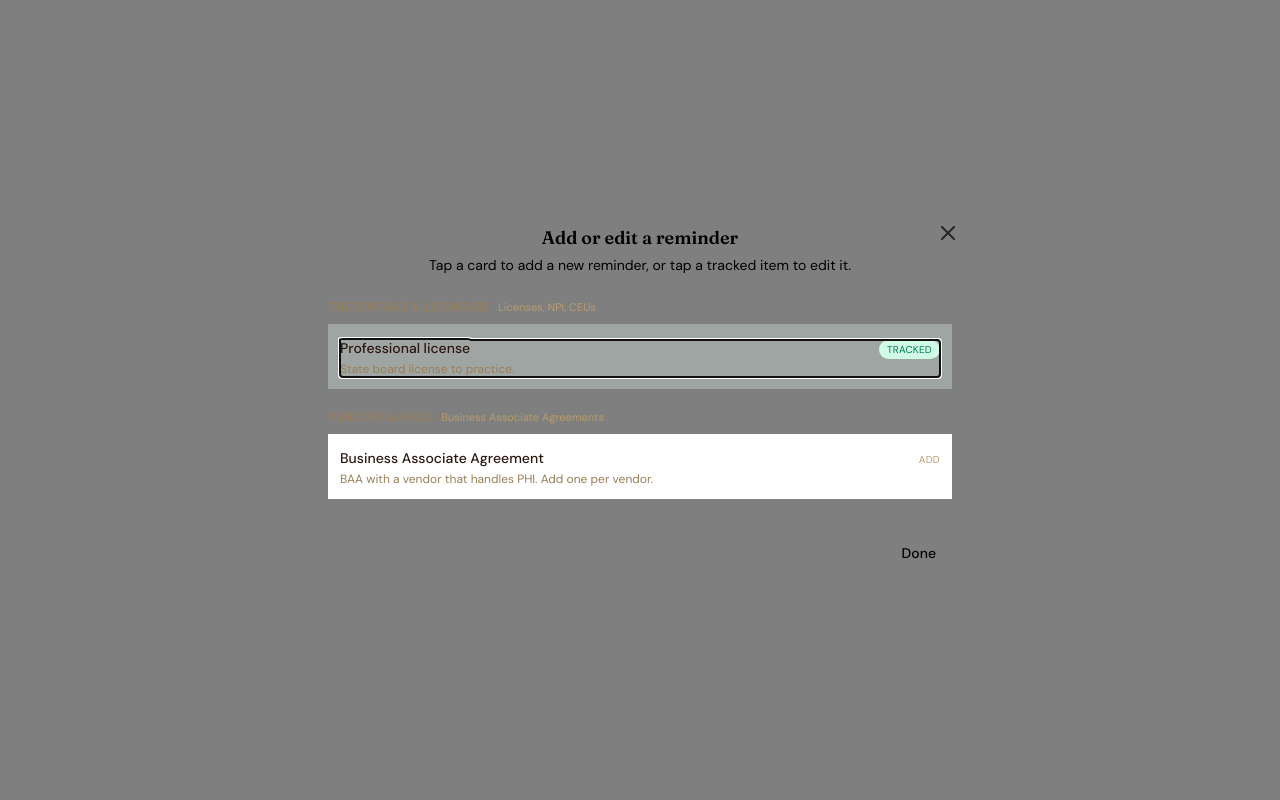
Scenario: ReminderComposer › browse mode › opens edit mode pre-filled when an existing tracked single-instance card is clicked
Note: Click the card body (the title button).
Click the text "Professional license" at (405, 348), box [340,338,470,356]
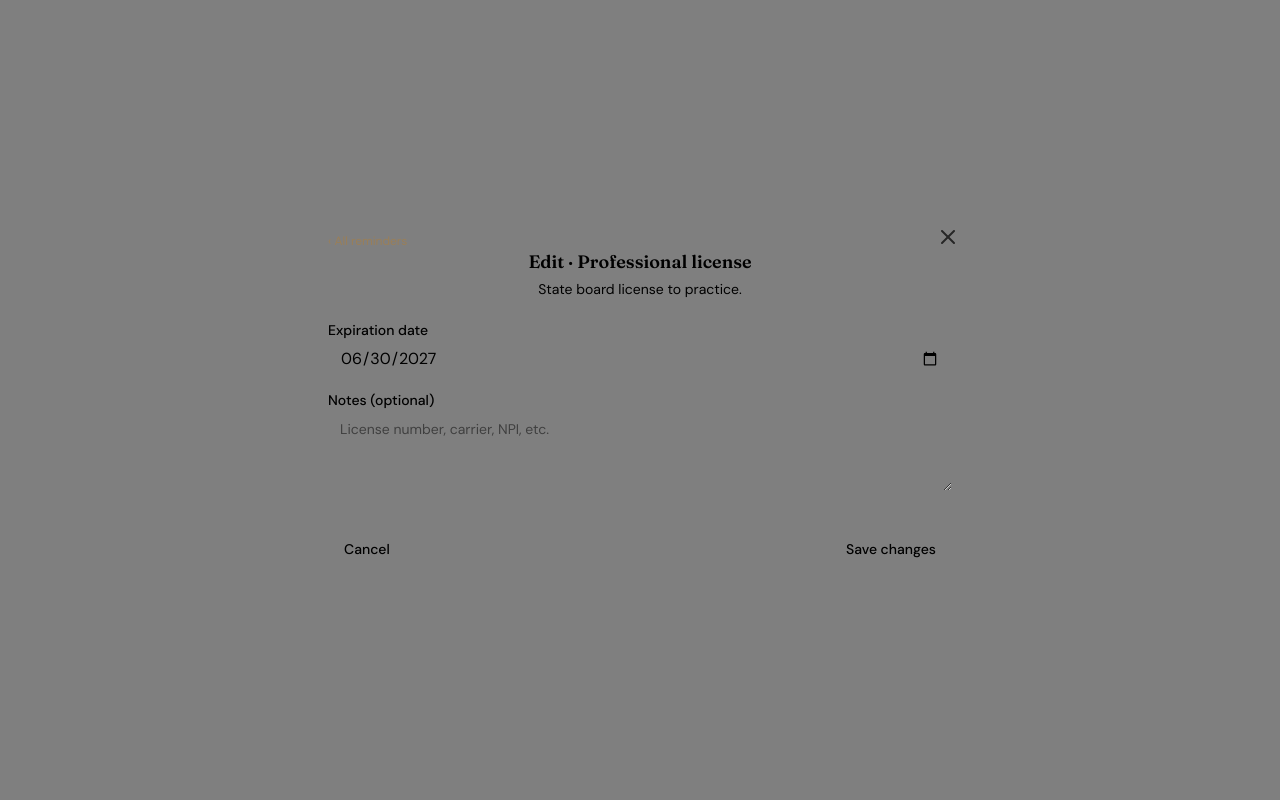
Expected: the button "‹ All reminders" is shown, [328,233,407,249]
Expected: the date field labelled "Expiration date" holds "2027-06-30", [328,341,952,377]
